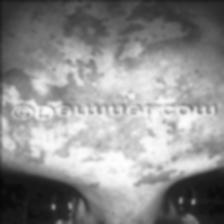Toxin: (60, 1, 134, 46), (130, 140, 188, 182)
